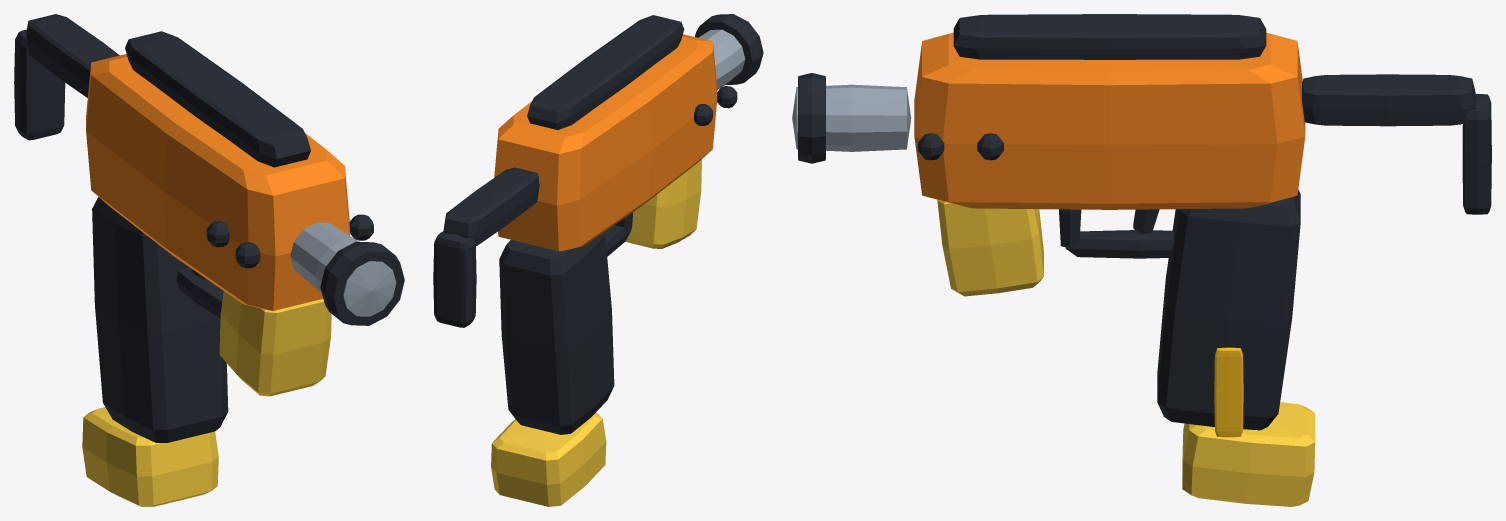
File: g-smg-1.glb
3 views of the same model, side by side, from view 1: azimuth 30°, elevation 25°; view 2: azimuth 150°, elevation 25°; view 3: azimuth 270°, elevation 25° (orthographic). The views are drawn at different scales.
Visible parts, largest first — view 1: gun; view 2: gun; view 3: gun.
Boxes of the visible parts, box(x1,y1,x2,y2) form: gun: box(14, 14, 404, 506); gun: box(433, 14, 763, 506); gun: box(792, 14, 1491, 506).
Bounding box in the file's own units: 0.1626 × 0.5189 × 0.7048.
